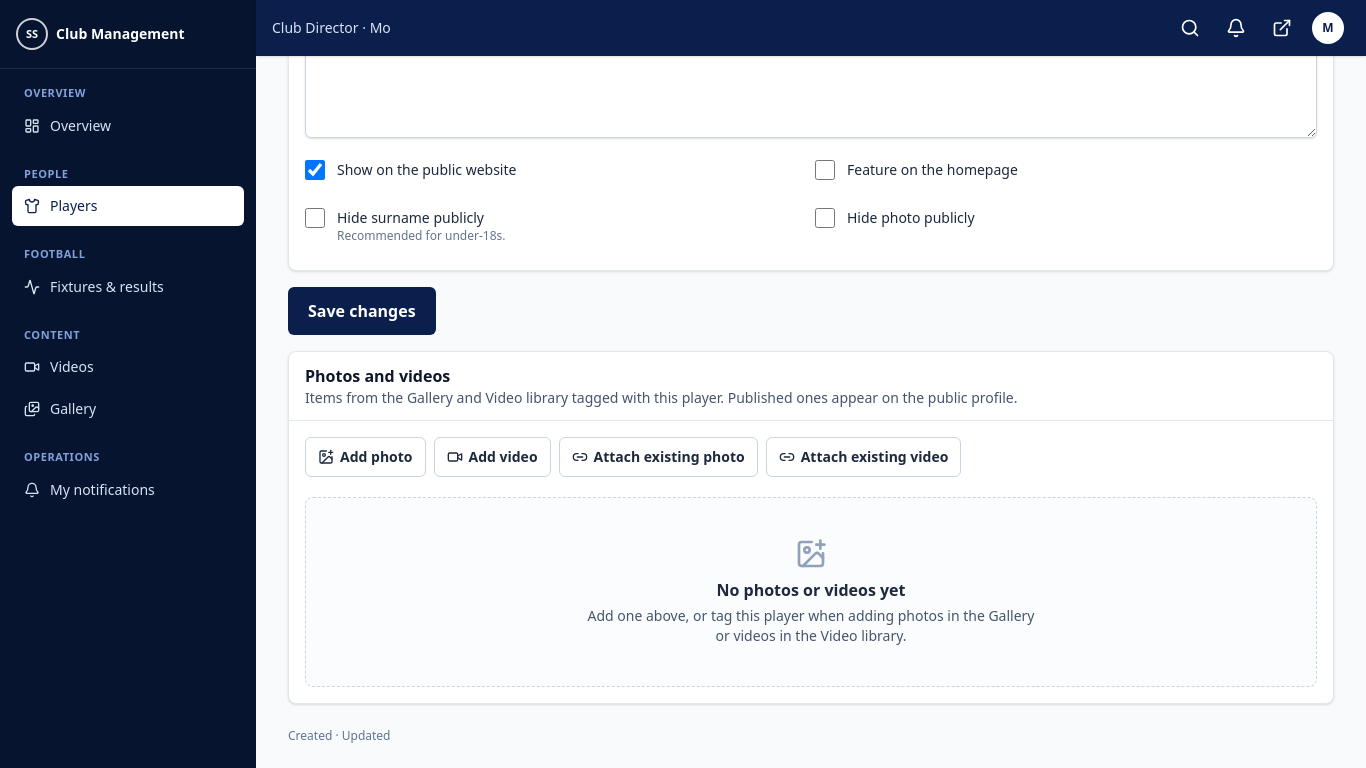
Test case: admin player page: attach an existing photo or video › searches the existing library and tags the player without creating media
(page scrolled)
Step 1. Click the button "Attach existing photo" → (658,457), box [559,437,758,477]
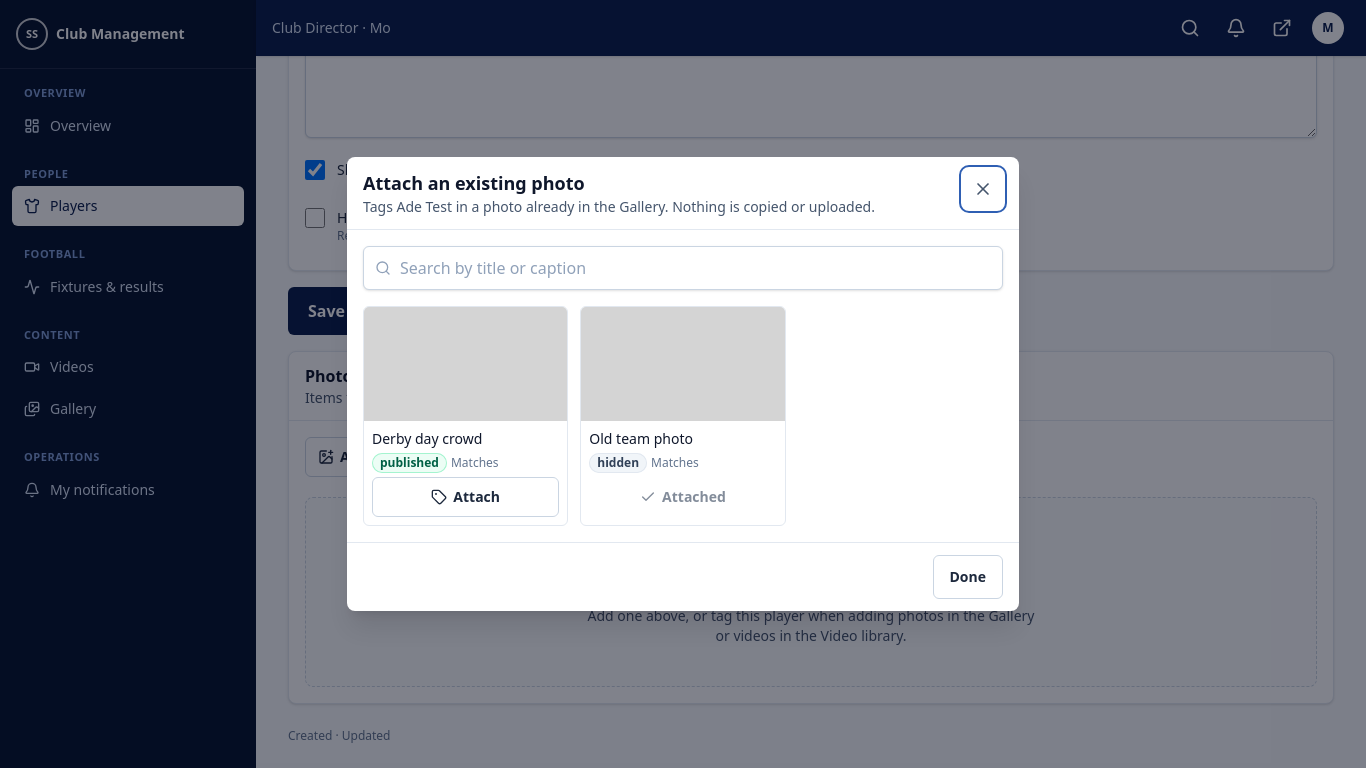
Check: the text "Derby day crowd" is shown, box [372,429,482,448]
Check: the button "Attached" is disabled, box [589,477,777,517]
// Search uses the server (one page at a time), not a full library download.
Step 2. Type "derby" into the search field → (683,268), box [363,246,1003,290]
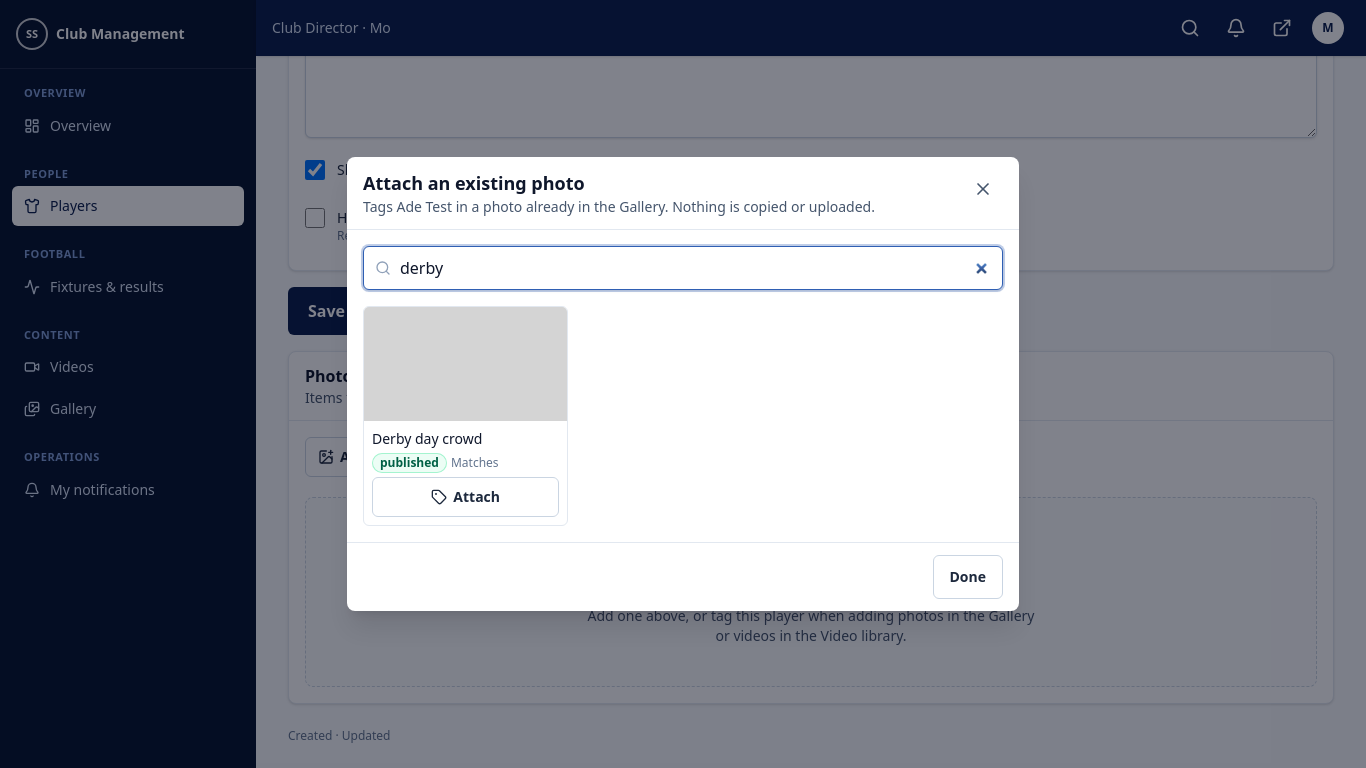
Check: the text "Derby day crowd" is shown, box [372,429,482,448]
Step 3. Click the button "Attach" → (466,497), box [372,477,559,517]
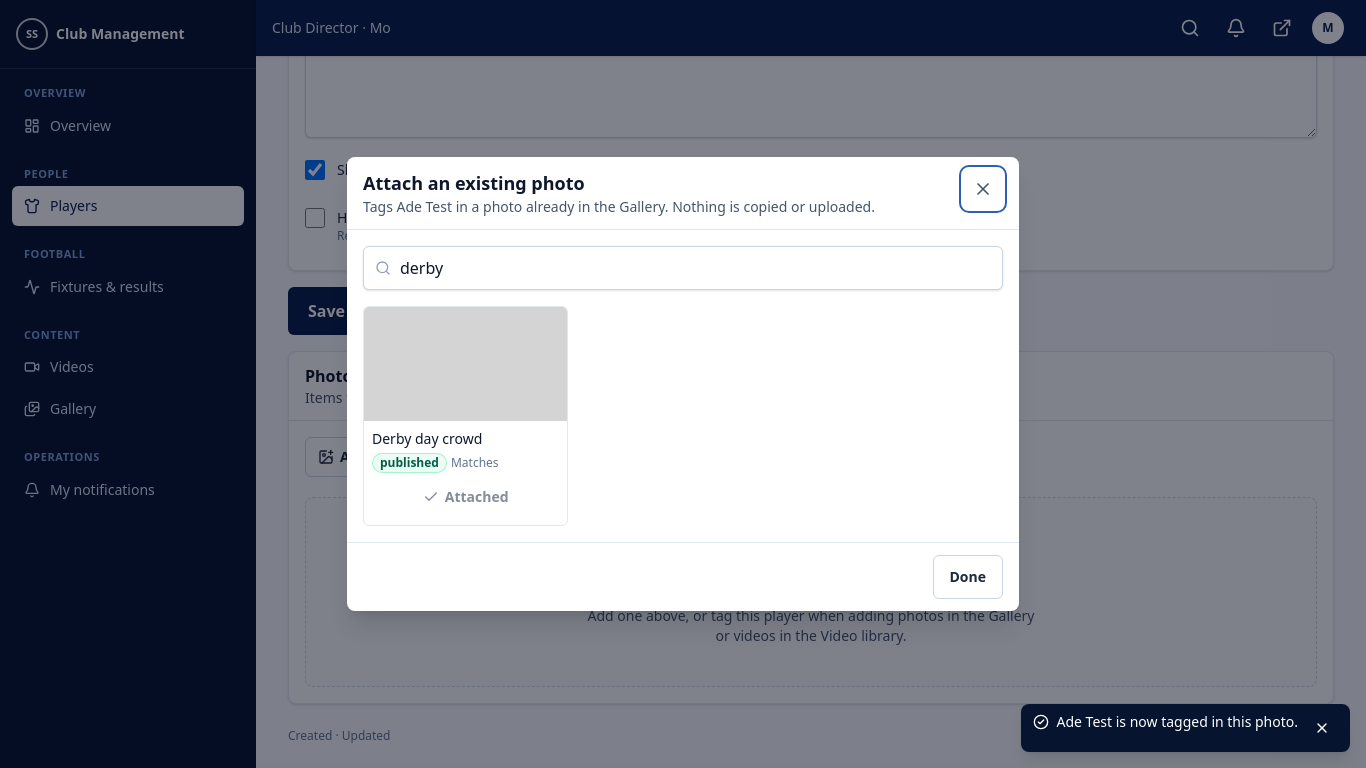
Check: the button "Attached" is disabled, box [372,477,559,517]
